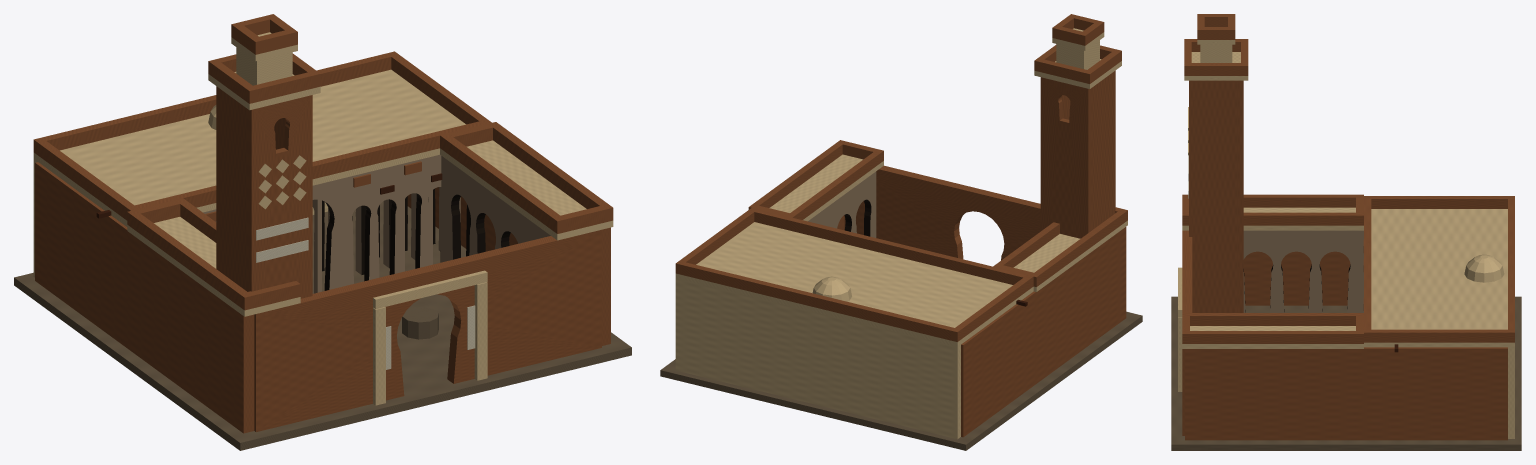
File: Berber_Tlemcen_Age4.fbx
3 renders of one model, left to right at view 1: azimuth 30°, elevation 25°; view 2: azimuth 150°, elevation 25°; view 3: azimuth 270°, elevation 25°, orthographic. The views are drawn at different scales.
Visible parts, largest first — view 1: entry_enclosure, outer_side_wall_-3.5, prayer_hall_flat_roof, foundation, minaret_shell_south, prayer_hall_courtyard_arcade, minaret_shell_west, courtyard_gallery_2.65, prayer_hall_flat_roof_parapet.003, gallery_roof_2.65, prayer_hall_flat_roof_parapet.002, gallery_roof_-2.65_parapet (+25 smaller); view 2: qibla_wall, prayer_hall_flat_roof, outer_side_wall_-3.5, entry_enclosure, minaret_shell_north, foundation, prayer_hall_flat_roof_parapet.003, prayer_hall_flat_roof_parapet.002, minaret_shell_west, courtyard_gallery_2.65, gallery_roof_2.65, gallery_roof_-2.65_parapet (+12 smaller); view 3: outer_side_wall_3.5, prayer_hall_flat_roof, minaret_shell_east, foundation, courtyard_gallery_-2.65, outer_side_wall_-3.5, gallery_roof_2.65_parapet.001, gallery_roof_2.65_parapet, prayer_hall_flat_roof_parapet.001, prayer_hall_flat_roof_parapet, gallery_roof_-2.65_parapet.001, gallery_roof_2.65 (+15 smaller).
Part boxes in pixels (x1,y1,x2,y2): entry_enclosure: [254, 229, 601, 431]; outer_side_wall_-3.5: [35, 162, 254, 433]; prayer_hall_flat_roof: [33, 69, 465, 226]; foundation: [14, 201, 631, 450]; minaret_shell_south: [247, 95, 312, 298]; prayer_hall_courtyard_arcade: [203, 154, 470, 290]; minaret_shell_west: [220, 89, 247, 291]; courtyard_gallery_2.65: [441, 156, 550, 262]; prayer_hall_flat_roof_parapet.003: [42, 53, 391, 150]; gallery_roof_2.65: [440, 140, 613, 240]; prayer_hall_flat_roof_parapet.002: [135, 121, 483, 208]; gallery_roof_-2.65_parapet: [127, 210, 252, 310]; qibla_wall: [675, 278, 960, 439]; prayer_hall_flat_roof: [675, 222, 1033, 346]; outer_side_wall_-3.5: [961, 227, 1126, 437]; entry_enclosure: [844, 165, 1040, 260]; minaret_shell_north: [1040, 77, 1091, 238]; foundation: [660, 311, 1142, 450]; prayer_hall_flat_roof_parapet.003: [682, 262, 954, 340]; prayer_hall_flat_roof_parapet.002: [754, 209, 1026, 284]; minaret_shell_west: [1091, 73, 1112, 230]; courtyard_gallery_2.65: [808, 171, 876, 237]; gallery_roof_2.65: [769, 154, 883, 221]; gallery_roof_-2.65_parapet: [1030, 209, 1127, 286]; outer_side_wall_3.5: [1185, 347, 1507, 440]; prayer_hall_flat_roof: [1364, 209, 1514, 347]; minaret_shell_east: [1195, 80, 1237, 312]; foundation: [1171, 296, 1521, 450]; courtyard_gallery_-2.65: [1243, 230, 1363, 312]; outer_side_wall_-3.5: [1243, 251, 1350, 305]; gallery_roof_2.65_parapet.001: [1182, 331, 1363, 343]; gallery_roof_2.65_parapet: [1182, 313, 1363, 325]; prayer_hall_flat_roof_parapet.001: [1364, 329, 1514, 342]; prayer_hall_flat_roof_parapet: [1364, 196, 1514, 208]; gallery_roof_-2.65_parapet.001: [1182, 212, 1363, 225]; gallery_roof_2.65: [1182, 326, 1363, 348].
Size of the model in its own units: 770 by 730 by 770.
6 materials, 6 textured.
